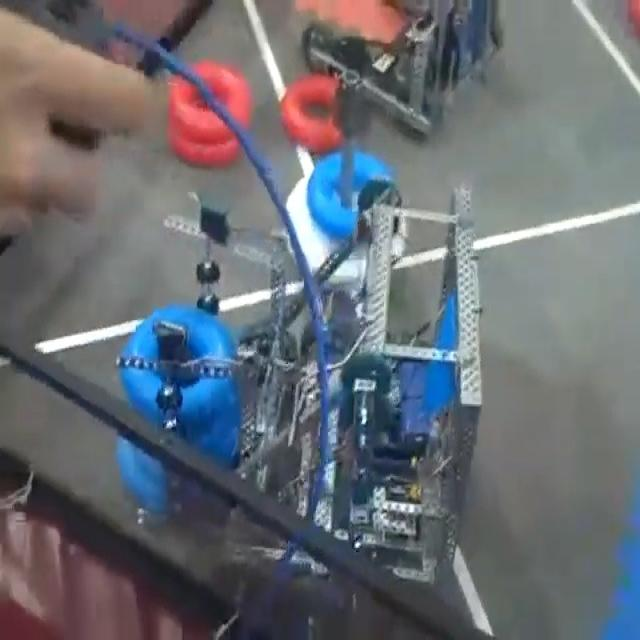Blue-Ring: (118, 305, 236, 418), (308, 148, 392, 238)
Red-Ring: (280, 73, 344, 153), (169, 77, 234, 142), (192, 60, 252, 126), (169, 129, 239, 166)
